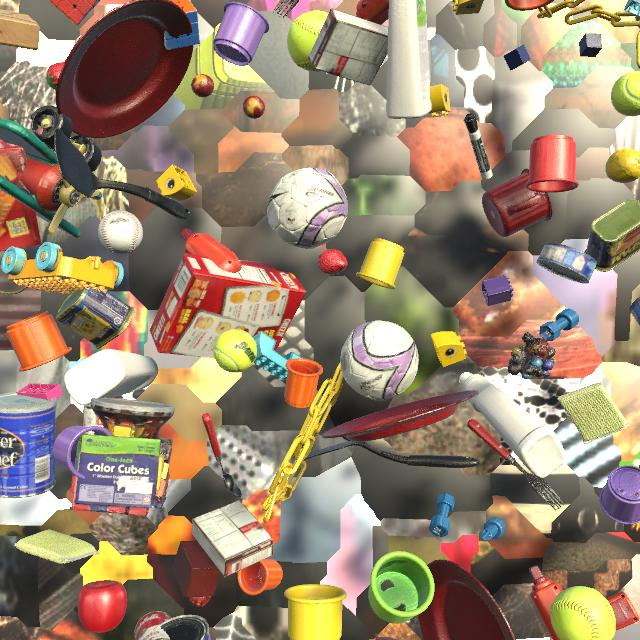ycb_002_master_chef_can: (0, 392, 57, 498), (146, 615, 211, 640)
ycb_003_cracker_box: (150, 253, 306, 363), (0, 141, 42, 252)
ycb_005_tomato_soup_can: (134, 611, 171, 640), (83, 404, 103, 435)
ycb_007_tuna_fish_can: (536, 242, 597, 284), (629, 297, 640, 326)
ycb_008_pudding_box: (192, 500, 274, 578), (308, 8, 388, 85), (639, 465, 640, 469)
ycb_010_potted_meat_can: (56, 287, 136, 349), (584, 199, 640, 272)
ycb_012_strawberry: (318, 249, 347, 275), (46, 62, 64, 90)
ycb_013_apple: (78, 580, 127, 633)
ycb_014_lemon: (605, 148, 640, 183)
